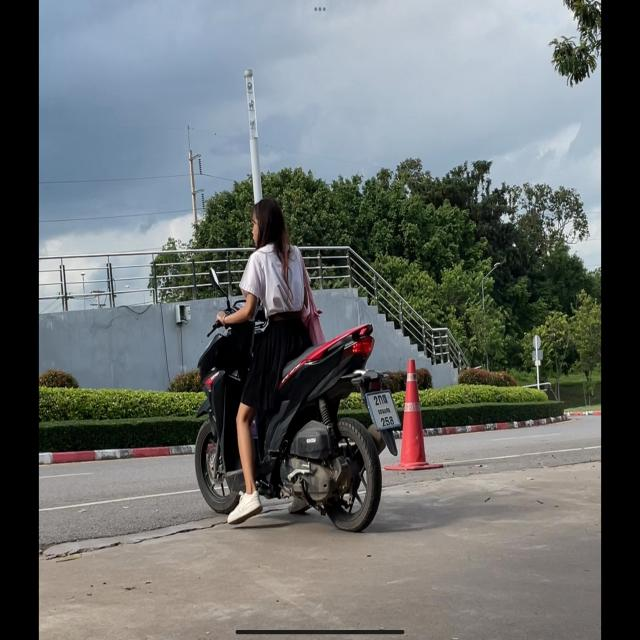seatbelt: (250, 197, 280, 250)
